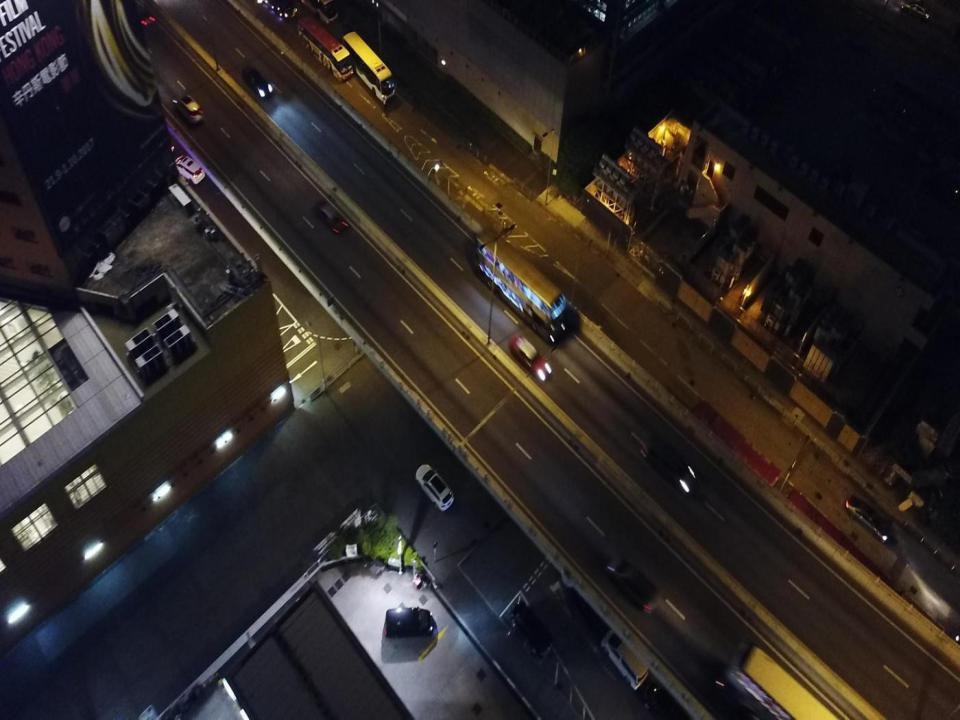bus: (472, 234, 567, 344), (723, 641, 843, 719), (340, 27, 396, 105), (293, 14, 354, 83), (302, 0, 344, 27), (258, 0, 300, 22)
car: (606, 554, 661, 614), (846, 490, 892, 546), (508, 332, 553, 384), (414, 463, 454, 514), (312, 200, 348, 240), (240, 66, 274, 101), (173, 92, 204, 125), (126, 0, 154, 26), (901, 0, 930, 21)
van: (642, 432, 695, 494), (600, 628, 648, 690), (511, 602, 553, 657), (384, 607, 435, 641), (645, 684, 693, 719), (174, 154, 204, 188)
